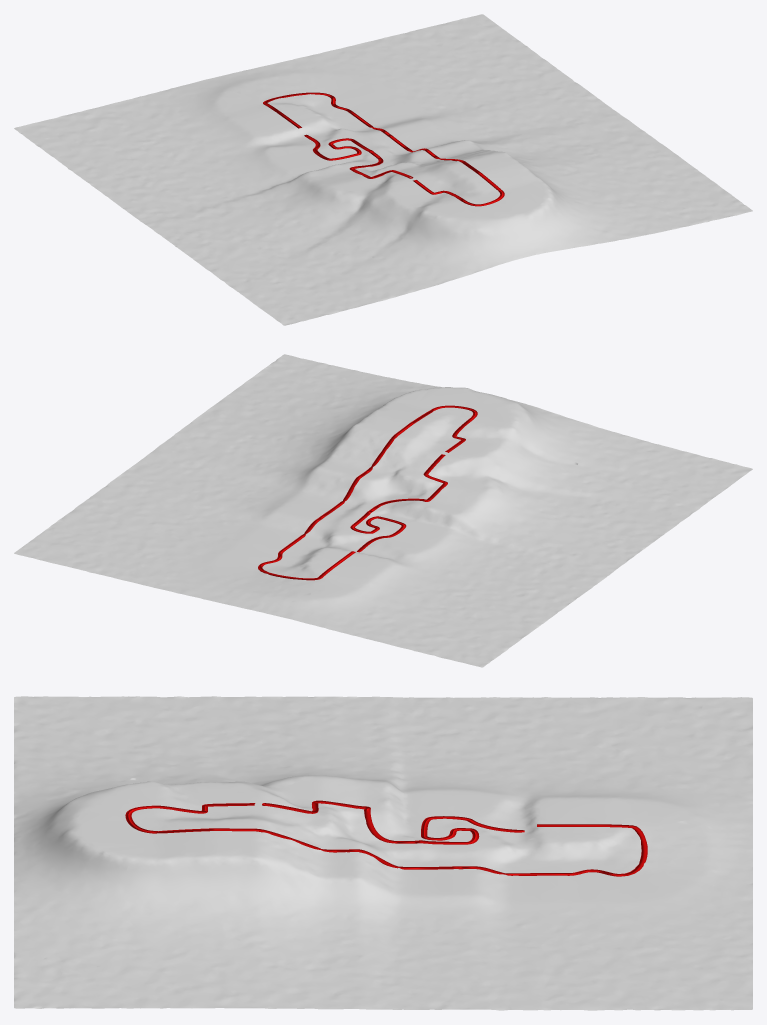
The model's file is Stage1.fbx.
The picture shows the model from 3 angles, top to bottom: view 1: azimuth 30°, elevation 25°; view 2: azimuth 150°, elevation 25°; view 3: azimuth 270°, elevation 25°; orthographic projection. The views are drawn at different scales.
Parts seen in each view (by area): view 1: Plane.002, Segment1Draft2 (1); view 2: Plane.002, Segment1Draft2 (1); view 3: Plane.002, Segment1Draft2 (1).
Boxes of the visible parts, x1=… form: Plane.002: x1=14, y1=14, x2=752, y2=325; Segment1Draft2 (1): x1=263, y1=92, x2=504, y2=206; Plane.002: x1=14, y1=354, x2=752, y2=667; Segment1Draft2 (1): x1=258, y1=405, x2=477, y2=580; Plane.002: x1=14, y1=696, x2=752, y2=1010; Segment1Draft2 (1): x1=125, y1=800, x2=647, y2=876.
Size of the model in its own units: 400009 by 28428 by 400008.
